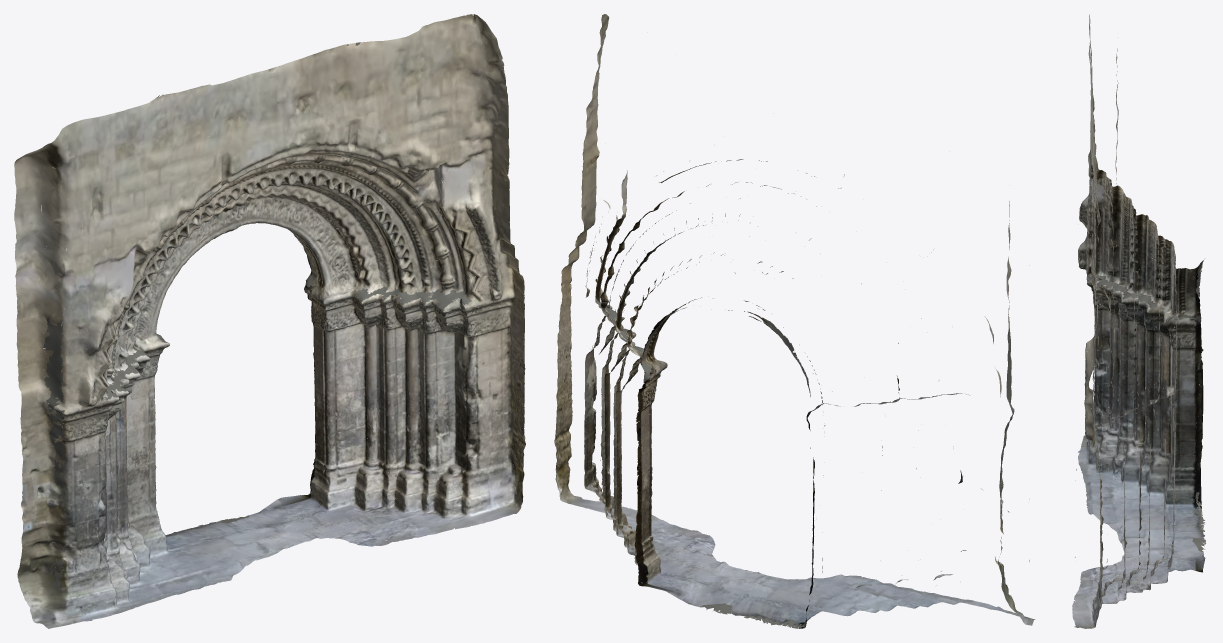
File: portal_major_seu_vella_de_lleida.glb
3 views of the same model, side by side, from view 1: azimuth 30°, elevation 25°; view 2: azimuth 150°, elevation 25°; view 3: azimuth 270°, elevation 25° (orthographic). The views are drawn at different scales.
Parts seen in each view (by area): view 1: scan_0, scan_1; view 2: scan_0, scan_1; view 3: scan_0, scan_1.
Boxes of the visible parts, bbox=[...] form: scan_0: bbox=[14, 14, 525, 628]; scan_1: bbox=[34, 14, 521, 623]; scan_0: bbox=[554, 14, 1035, 628]; scan_1: bbox=[555, 15, 1033, 624]; scan_0: bbox=[1072, 14, 1205, 628]; scan_1: bbox=[1078, 47, 1205, 628].
Bounding box in the file's own units: 12.39 × 12.31 × 3.62.
2 materials, 2 textured.
